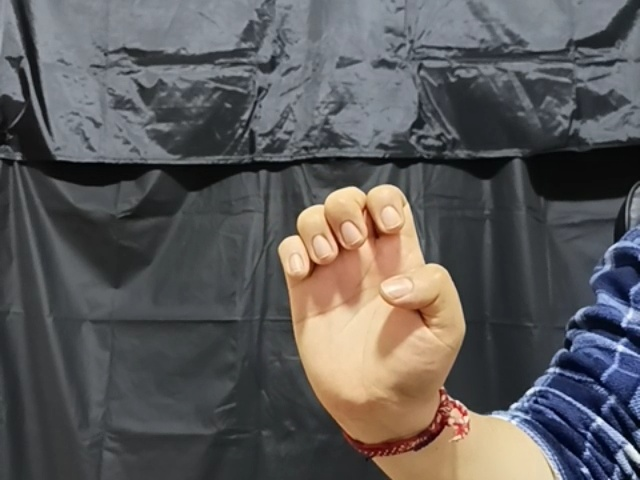E: (274, 184, 469, 428)
